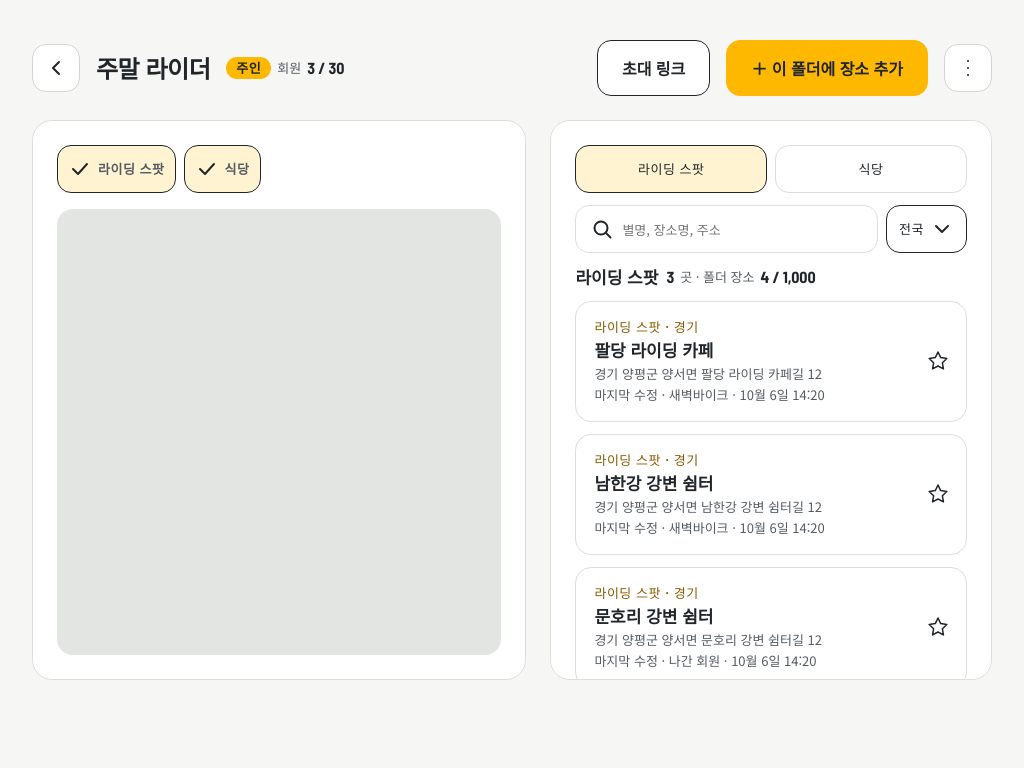
Scenario: adding a place to a shared folder (G13b) › parity 3: a save confirmed only by a re-read sends no star and says so
This screenshot has width=1024, height=768.
Click the button "＋ 이 폴더에 장소 추가" at (827, 68), box [726, 40, 928, 96]
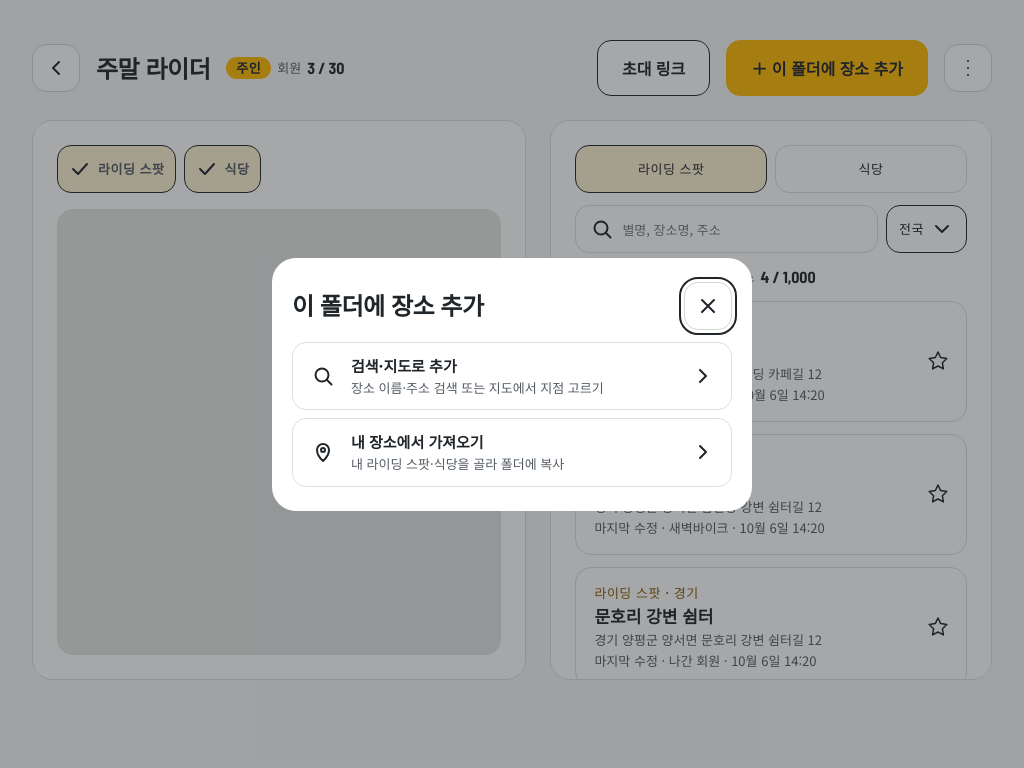
Click the button "검색·지도로 추가 장소 이름·주소 검색 또는 지도에서 지점 고르기" at (512, 376), box [292, 342, 732, 410]
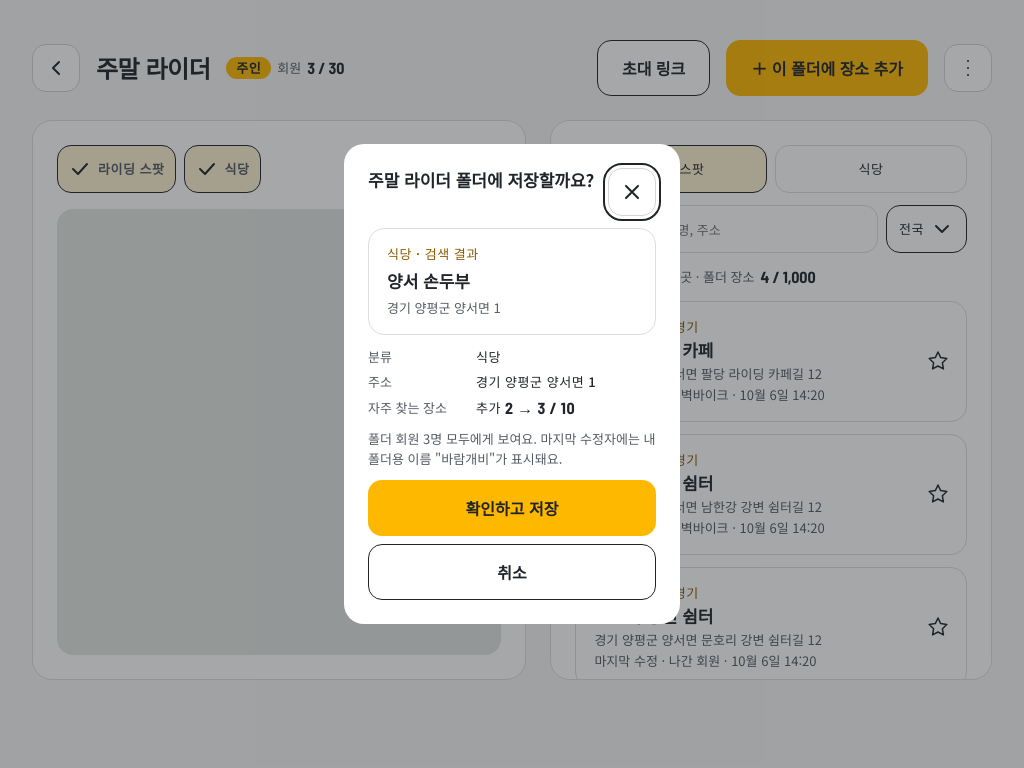
Click the button "확인하고 저장" at (512, 508), box [368, 480, 656, 536]
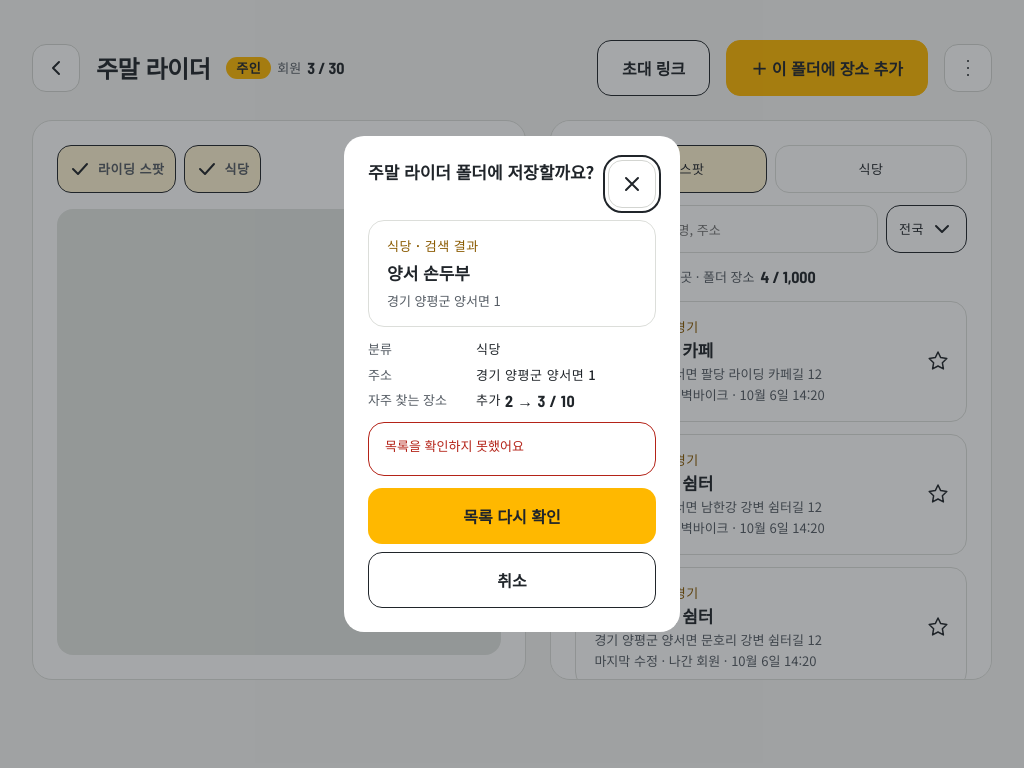
Click the button "목록 다시 확인" at (512, 516), box [368, 488, 656, 544]
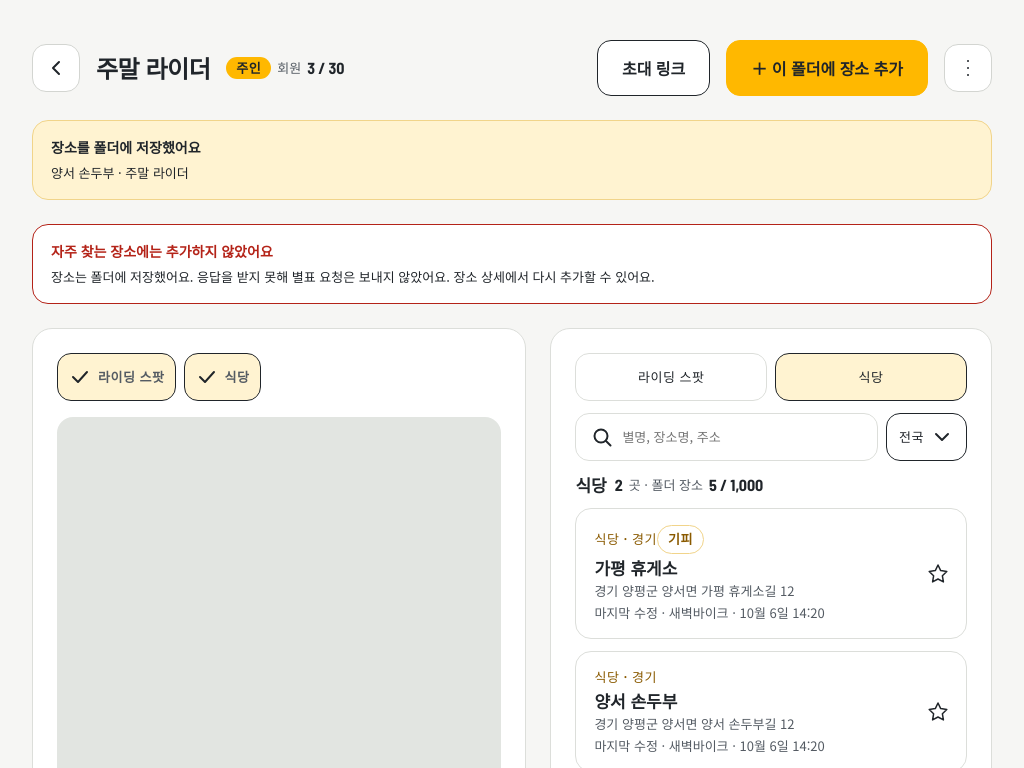
Now the text "자주 찾는 장소에는 추가하지 않았어요" is shown, box [51, 241, 273, 261]
Now the text "장소는 폴더에 저장했어요. 응답을 받지 못해 별표 요청은 보내지 않았어요. 장소 상세에서 다시 추가할 수 있어요." is shown, box [51, 267, 655, 286]
